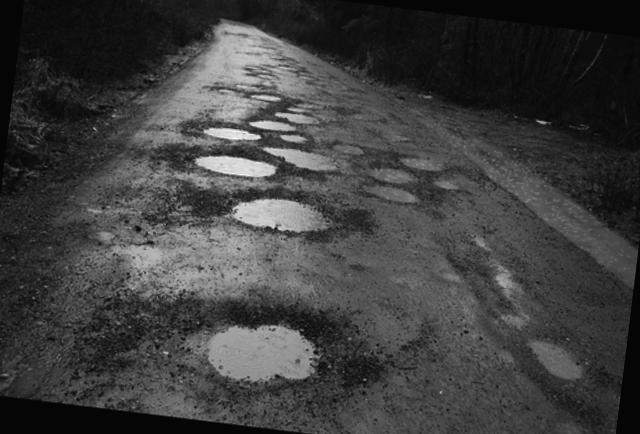Pothole: (150, 284, 352, 420), (190, 176, 342, 254), (495, 315, 592, 402), (232, 89, 312, 148), (181, 148, 284, 186), (256, 140, 342, 184), (189, 113, 262, 151), (318, 132, 377, 172), (356, 175, 421, 207), (361, 158, 414, 190), (404, 152, 442, 172)
